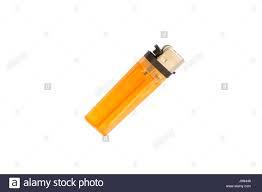lighter: (83, 41, 188, 139)
